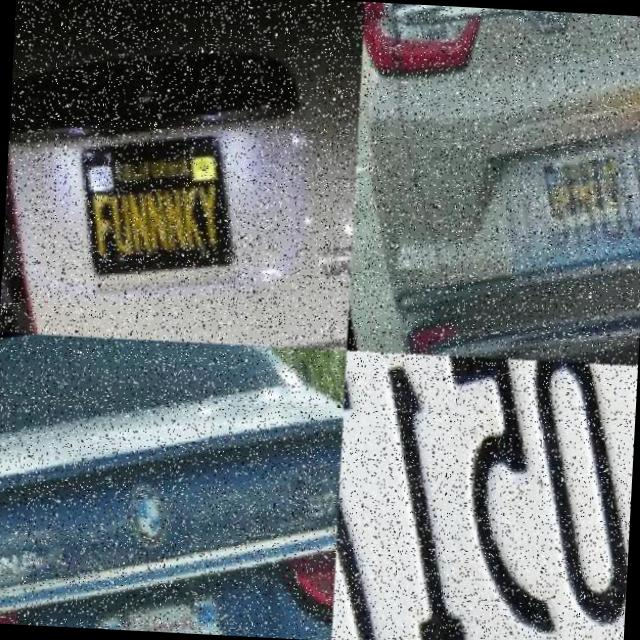LicensePlate: (330, 349, 638, 640), (64, 118, 239, 292), (87, 576, 255, 637), (530, 146, 625, 244)
